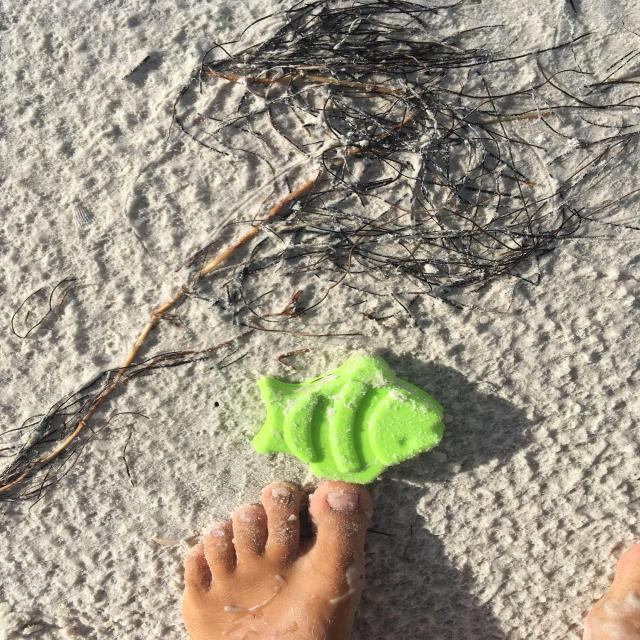litter: (252, 349, 445, 484)
